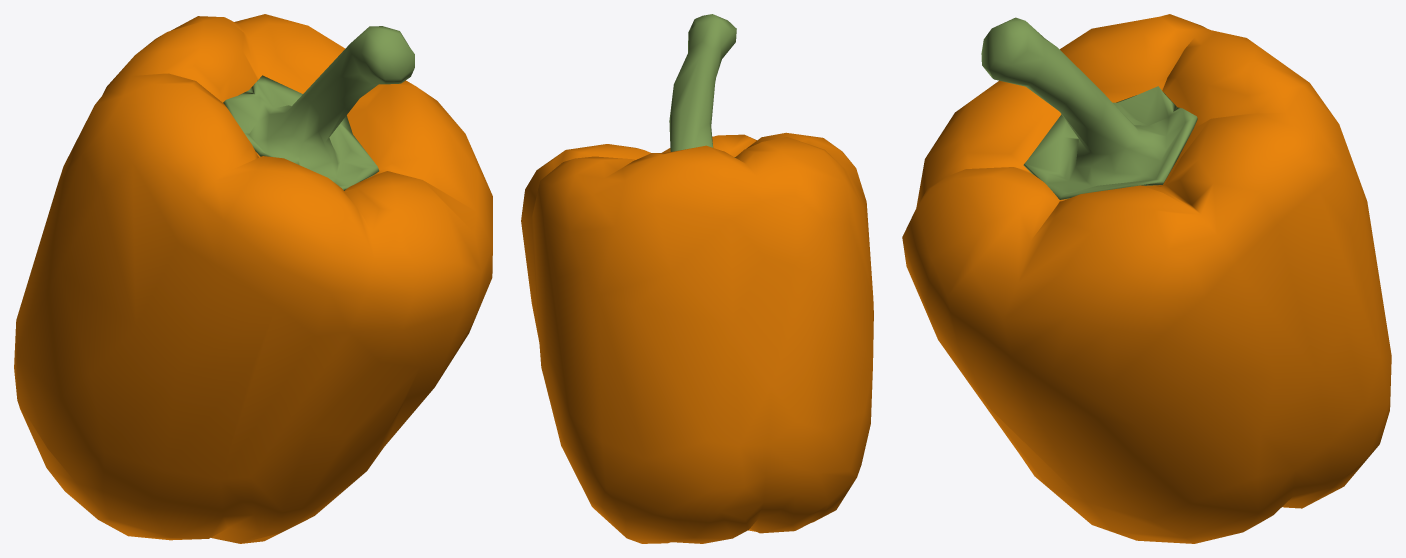
The model's file is Orange.fbx.
3 views of the same model, side by side, from view 1: azimuth 30°, elevation 25°; view 2: azimuth 150°, elevation 25°; view 3: azimuth 270°, elevation 25° (orthographic). The views are drawn at different scales.
Visible parts, largest first — view 1: Orange; view 2: Orange; view 3: Orange.
Part boxes in pixels (<box>): Orange: <box>14,14,492,543</box>; Orange: <box>521,14,873,543</box>; Orange: <box>902,14,1391,543</box>.
Bounding box in the file's own units: 0.0705 × 0.091 × 0.0733.
